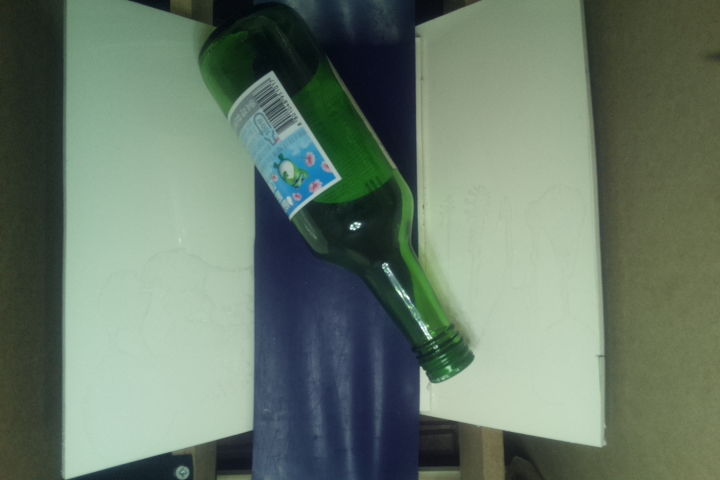soju: (196, 1, 479, 385)
